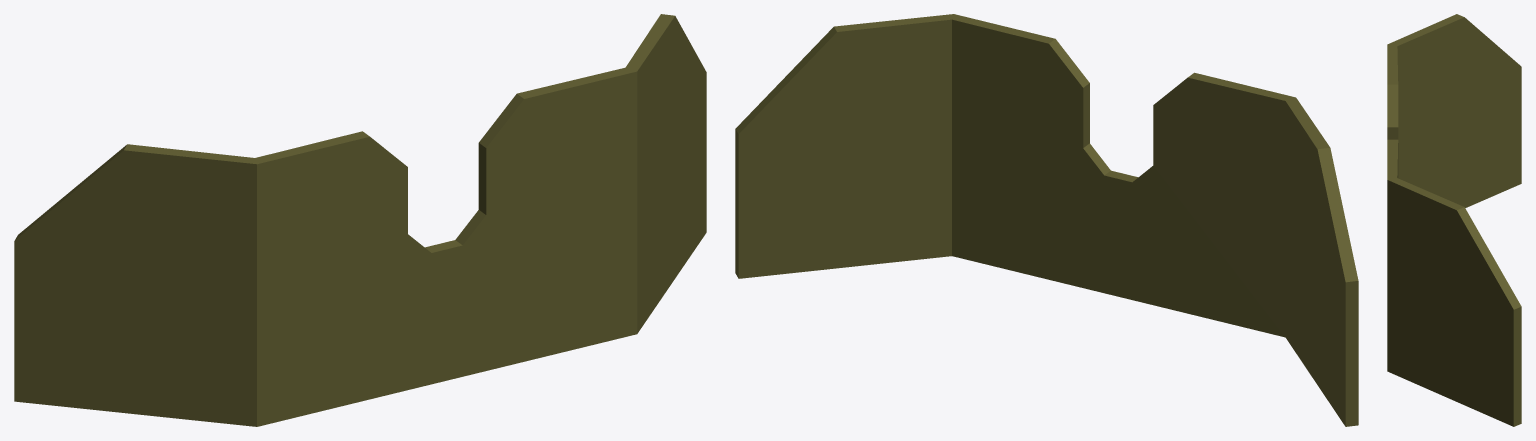
Rendered from LPWarPack_MachineGunShield.fbx.
3 views of the same model, side by side, from view 1: azimuth 30°, elevation 25°; view 2: azimuth 150°, elevation 25°; view 3: azimuth 270°, elevation 25° (orthographic). The views are drawn at different scales.
Parts seen in each view (by area): view 1: MachineGunShield; view 2: MachineGunShield; view 3: MachineGunShield.
Part boxes in pixels (bbox=[...]): MachineGunShield: bbox=[14, 14, 706, 426]; MachineGunShield: bbox=[735, 14, 1358, 426]; MachineGunShield: bbox=[1387, 14, 1521, 426].
Size of the model in its own units: 111 by 40.1 by 25.47.
